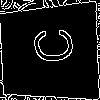C: (25, 26, 74, 64)
